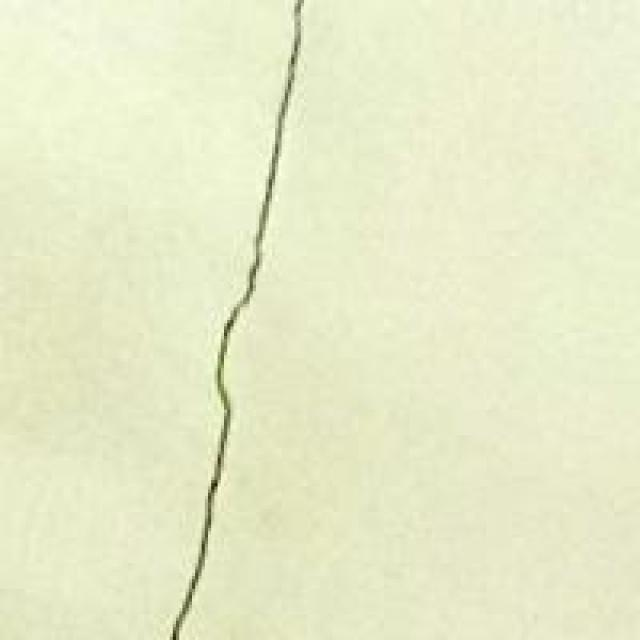crack: (102, 0, 390, 637)
